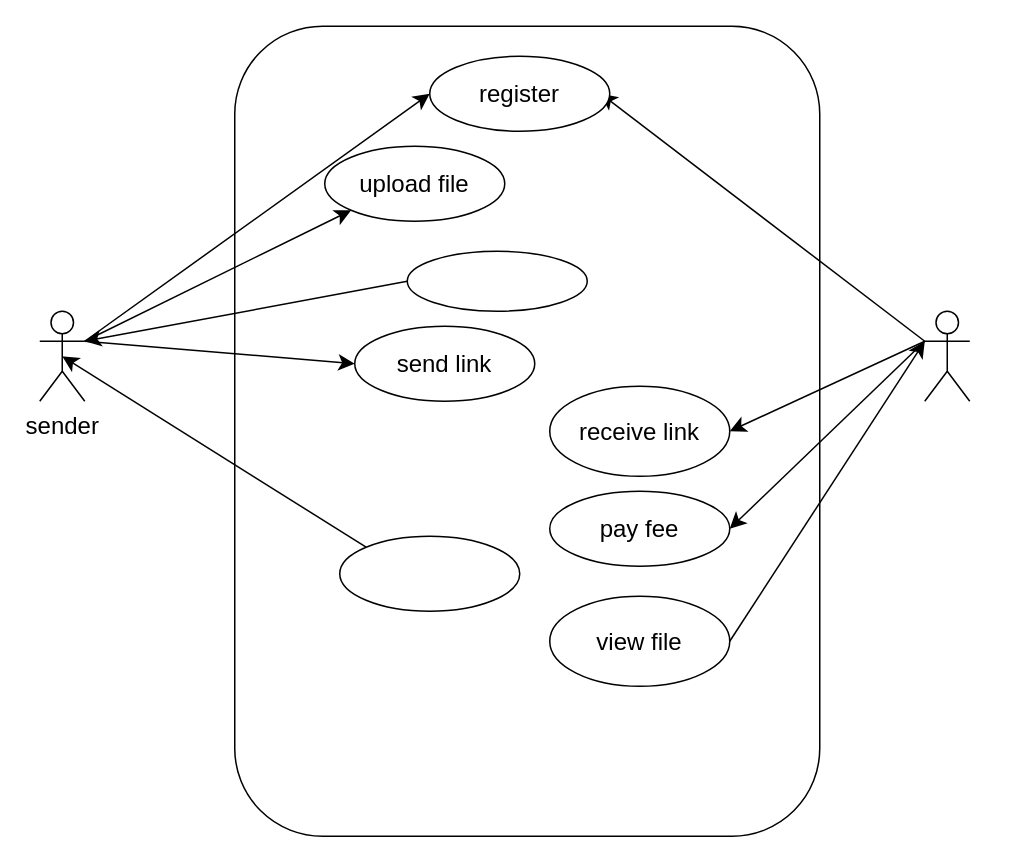
Image size: 1010x863. Some labels were removed from this diagram. Each missing label, with the box of its shape:
get link: (406, 250, 587, 311)
receive pay: (338, 535, 520, 611)
reciver: (923, 310, 970, 401)
